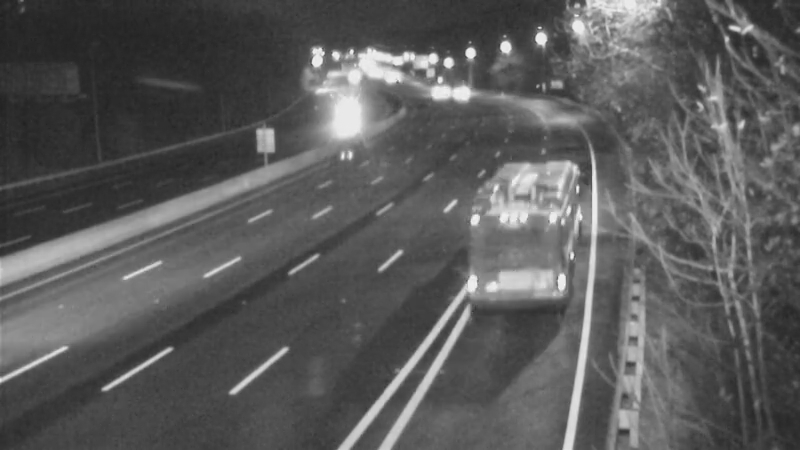vehicle: (470, 197, 550, 277), (410, 65, 460, 115), (435, 68, 485, 118), (321, 97, 371, 147)
